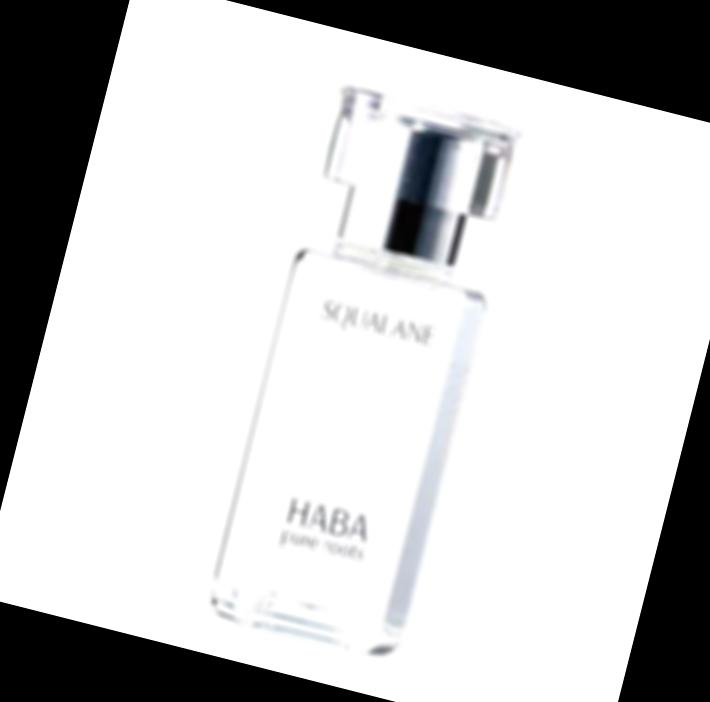cosmetic: (203, 81, 531, 661)
